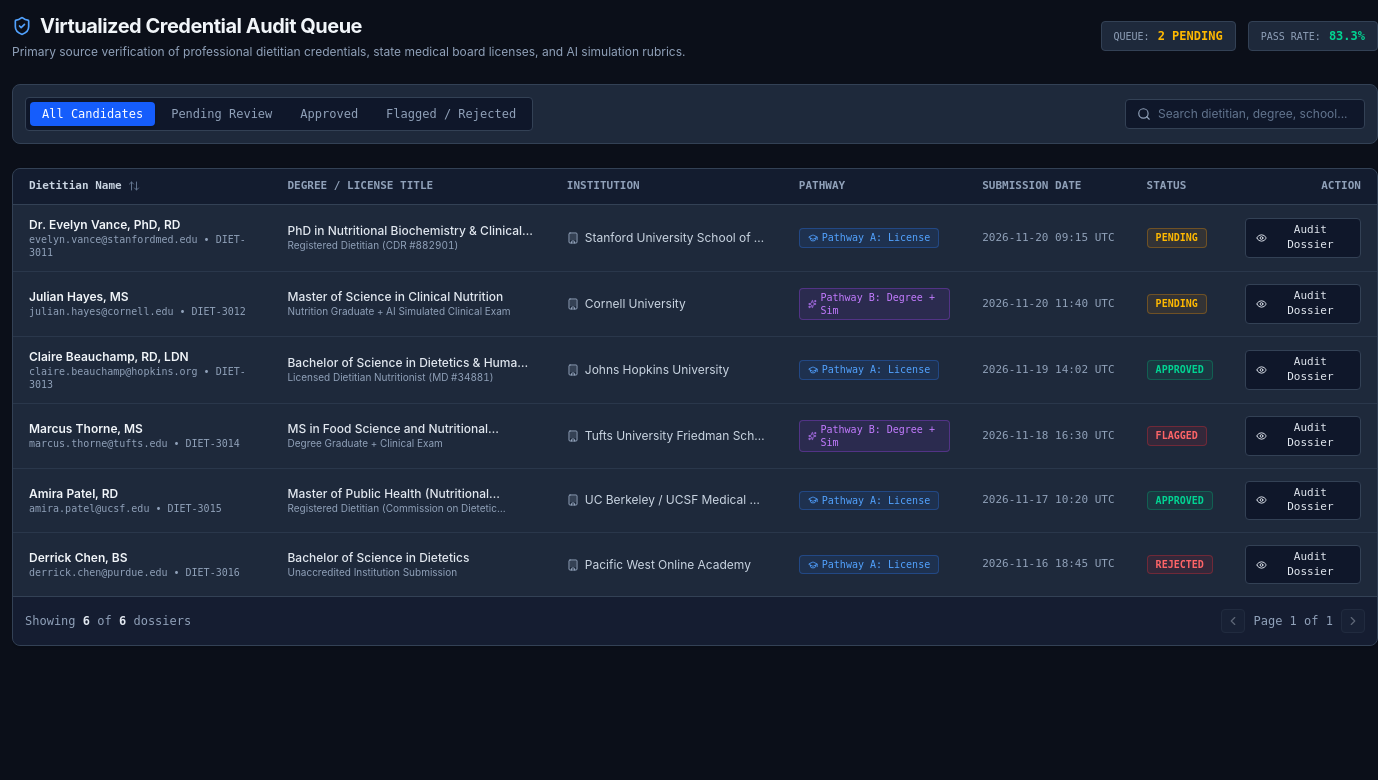
Test case: Credential Audit Queue › filters credential table rows by status correctly via status tabs
Expected: the text "Dr. Evelyn Vance, PhD, RD" is shown, 29,217 -> 180,232
Expected: the text "Claire Beauchamp, RD, LDN" is shown, 29,349 -> 189,364
// Click "Pending Review" tab
Click the button with test id "filter-tab-pending" at (222, 114), box 159,102 -> 284,126
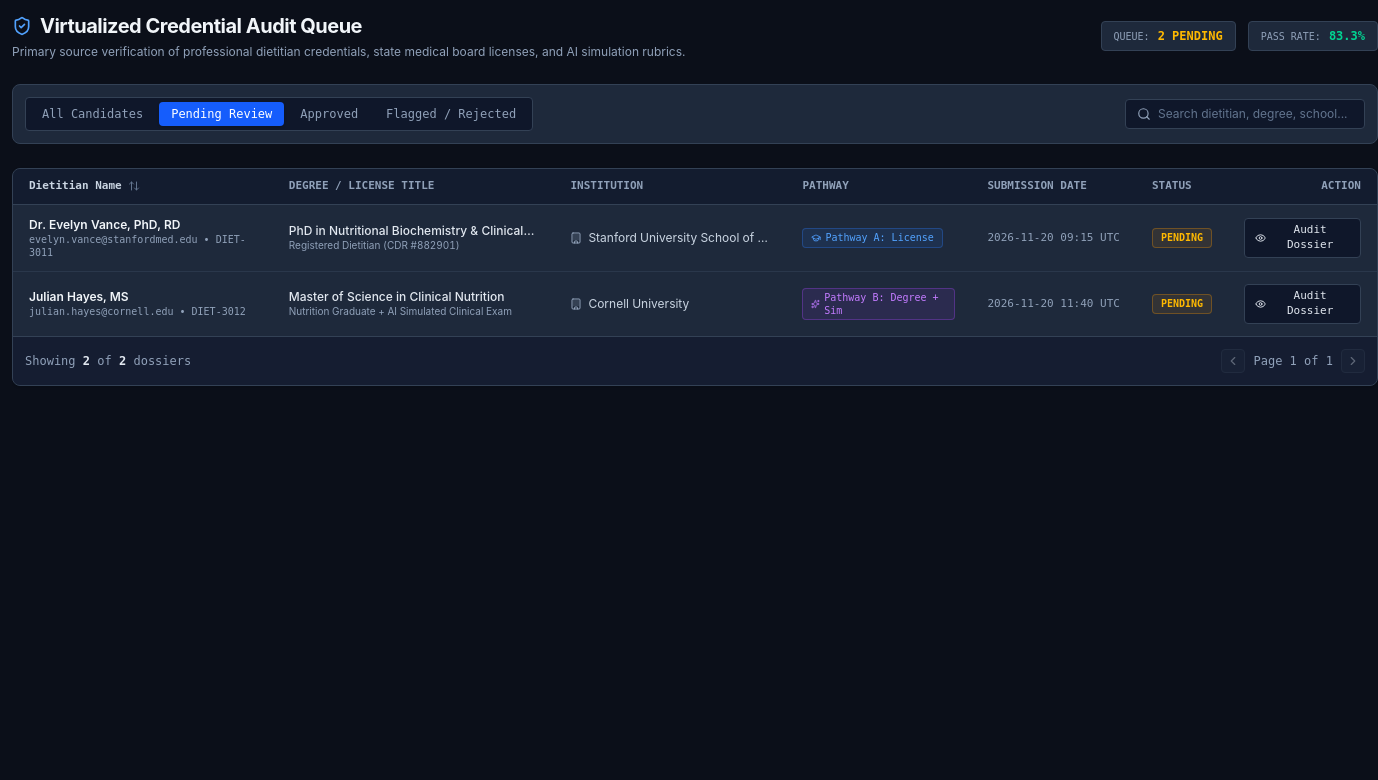
Expected: the text "Dr. Evelyn Vance, PhD, RD" is shown, 29,217 -> 180,232
Expected: the text "Claire Beauchamp, RD, LDN" is gone
Expected: the text "Marcus Thorne, MS" is gone
// Click "Approved" tab
Click the button with test id "filter-tab-approved" at (329, 114), box 288,102 -> 370,126
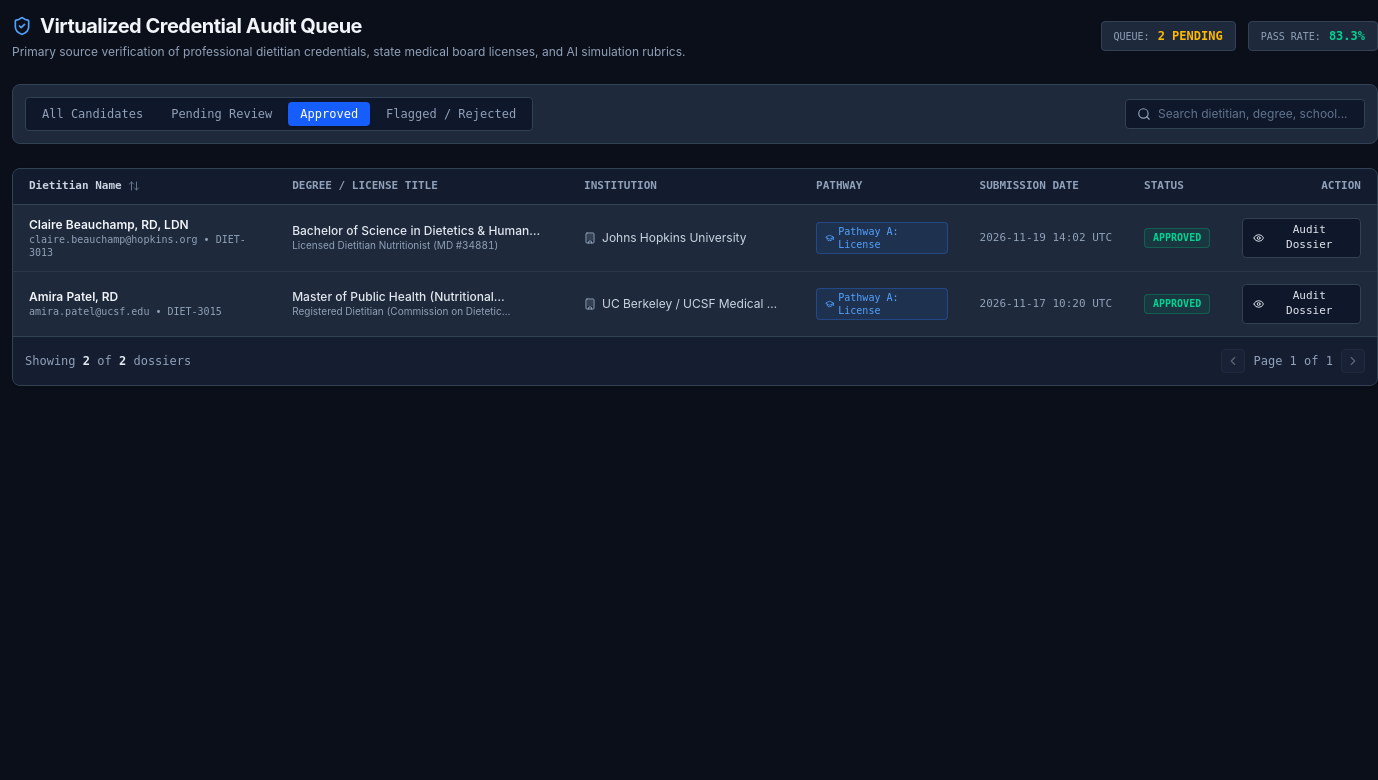
Expected: the text "Claire Beauchamp, RD, LDN" is shown, 29,217 -> 189,232
Expected: the text "Amira Patel, RD" is shown, 29,289 -> 118,304
Expected: the text "Dr. Evelyn Vance, PhD, RD" is gone
// Click "Flagged / Rejected" tab
Click the button with test id "filter-tab-flagged" at (451, 114), box 374,102 -> 528,126
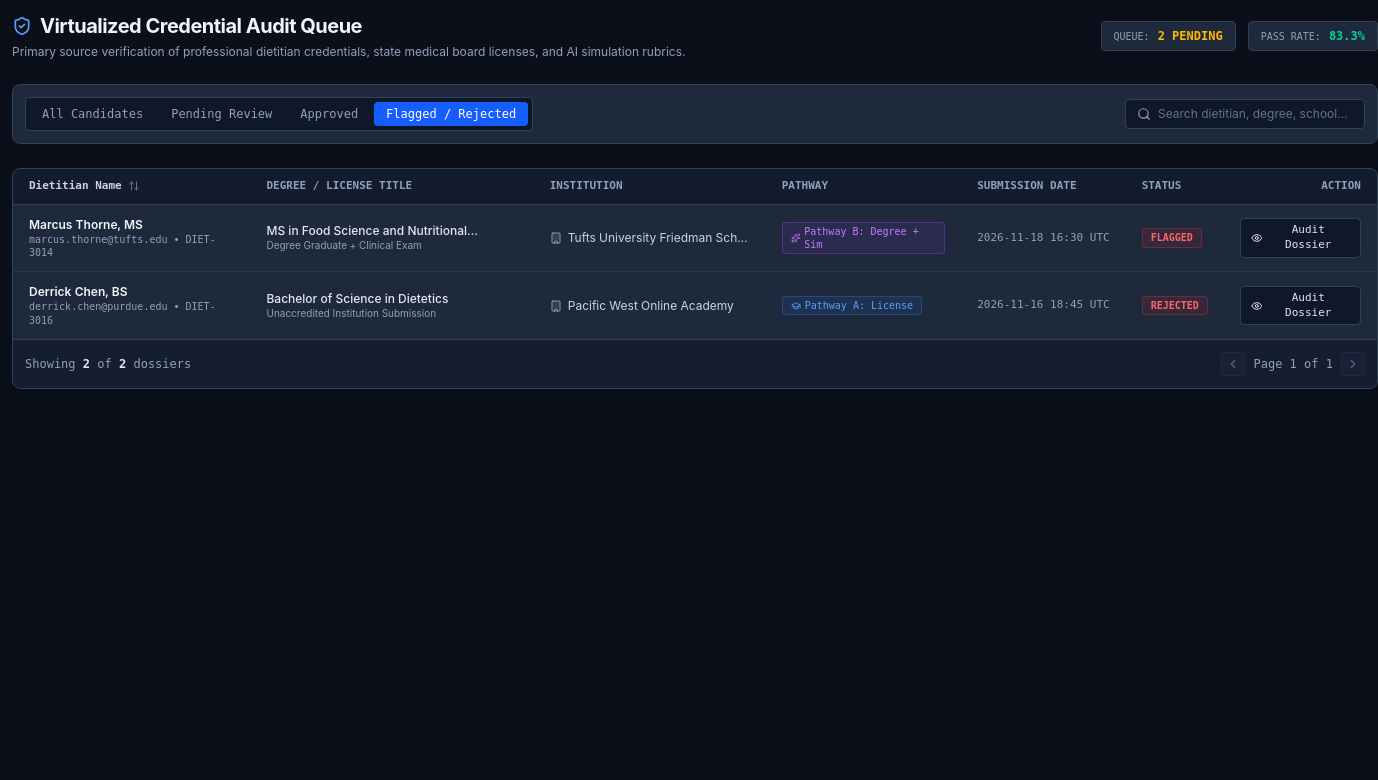
Expected: the text "Marcus Thorne, MS" is shown, 29,217 -> 143,232
Expected: the text "Derrick Chen, BS" is shown, 29,284 -> 128,299
Expected: the text "Claire Beauchamp, RD, LDN" is gone
// Restore "All Candidates" tab
Click the button with test id "filter-tab-all" at (93, 114), box 30,102 -> 155,126
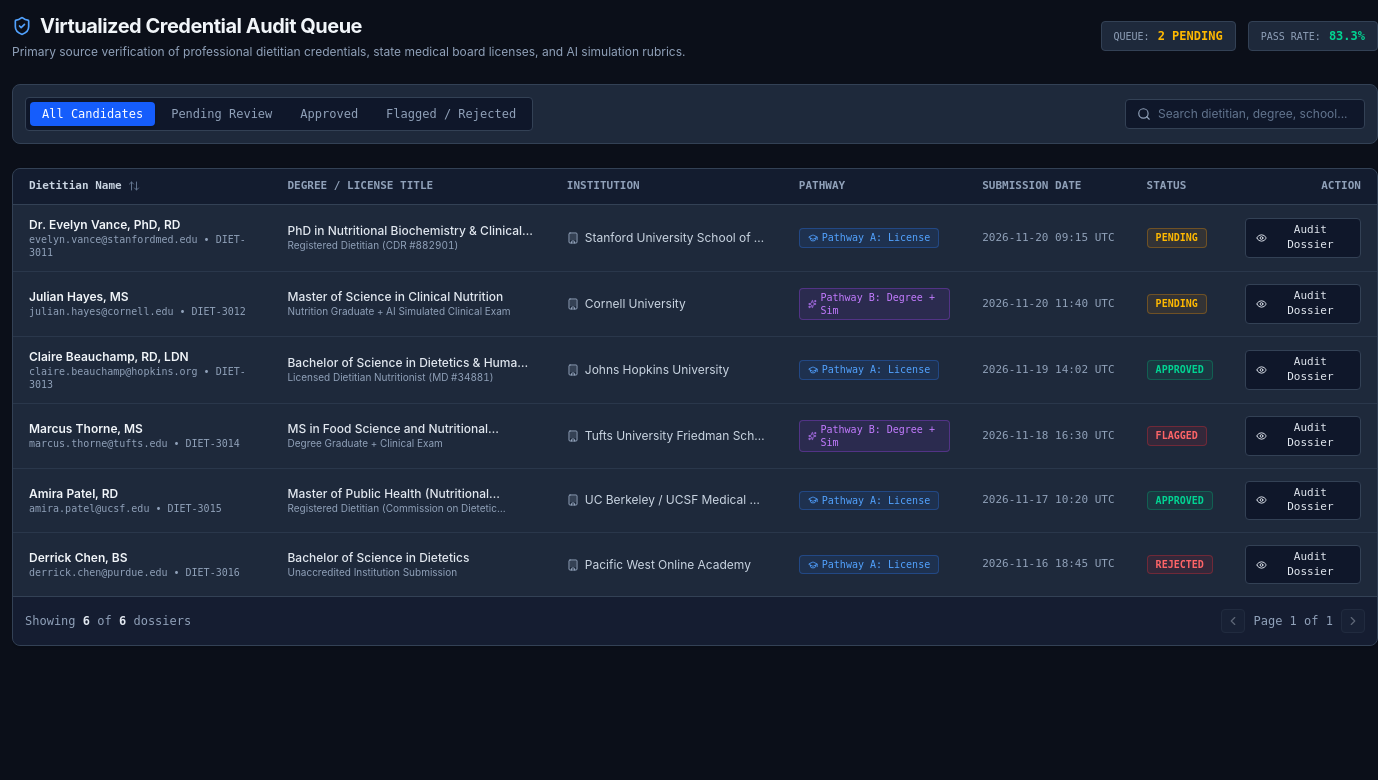
Expected: the text "Marcus Thorne, MS" is shown, 29,421 -> 143,436
Expected: the text "Dr. Evelyn Vance, PhD, RD" is shown, 29,217 -> 180,232
Expected: the text "Claire Beauchamp, RD, LDN" is shown, 29,349 -> 189,364
